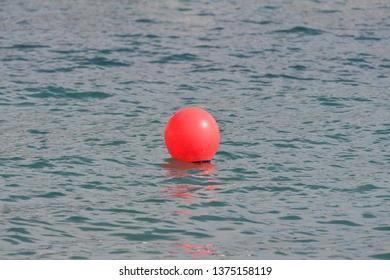Red_Ball: (157, 98, 228, 167)
